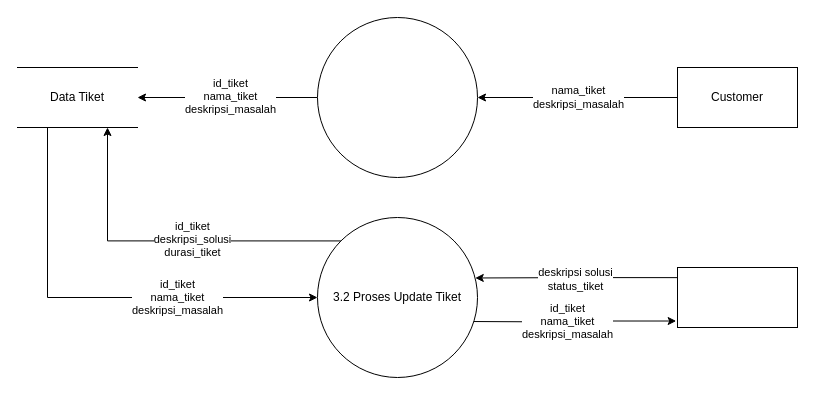
Image size: 815x395. Some labels were removed from this diagram. Each missing label, with the box of its shape:
3.1 Proses create ticket: (316, 16, 478, 178)
Agent: (676, 266, 798, 328)
